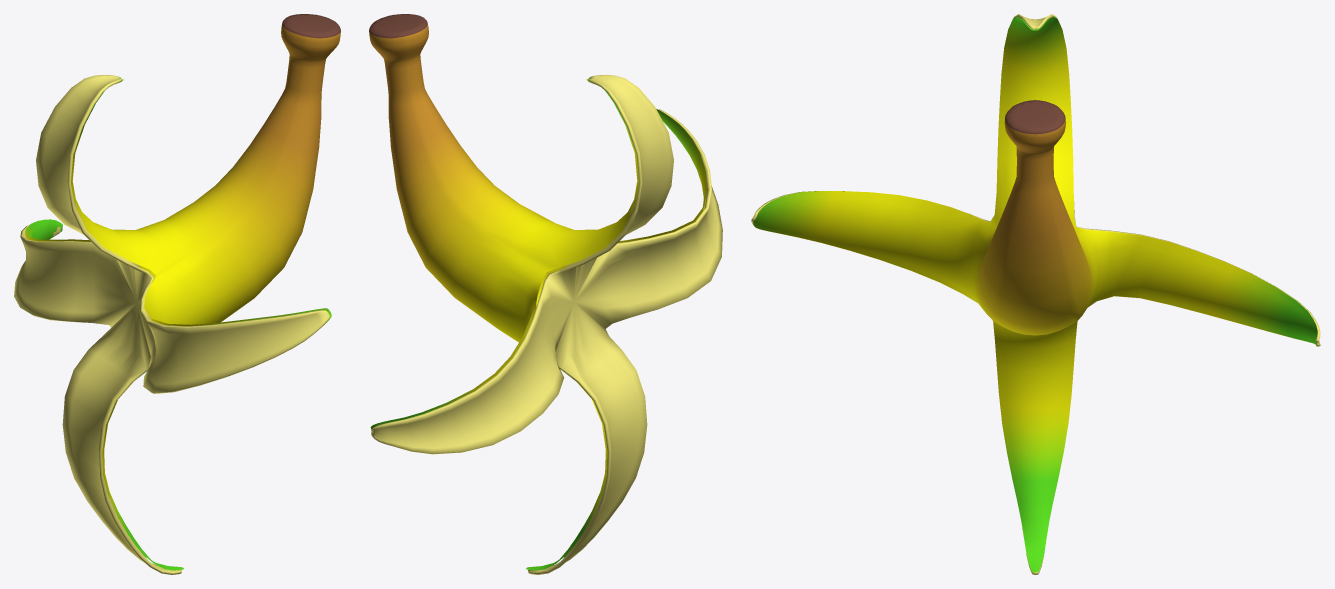
Rendered from Banana-Peel.fbx.
3 views of the same model, side by side, from view 1: azimuth 30°, elevation 25°; view 2: azimuth 150°, elevation 25°; view 3: azimuth 270°, elevation 25° (orthographic).
Visible parts, largest first — view 1: Banana Peel Inside, Banana Peel; view 2: Banana Peel Inside, Banana Peel; view 3: Banana Peel, Banana Peel Inside.
Boxes of the visible parts, x1=… form: Banana Peel Inside: x1=14, y1=75, x2=329, y2=574; Banana Peel: x1=25, y1=14, x2=340, y2=570; Banana Peel Inside: x1=371, y1=75, x2=722, y2=574; Banana Peel: x1=369, y1=14, x2=707, y2=570; Banana Peel: x1=753, y1=16, x2=1317, y2=572; Banana Peel Inside: x1=751, y1=14, x2=1320, y2=574.
Size of the model in its own units: 113 by 196 by 192.
1 material, 1 textured.
